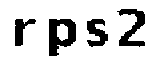2: (116, 7, 148, 51)
p: (44, 17, 77, 60)
r: (9, 15, 36, 50)
s: (85, 17, 109, 51)
